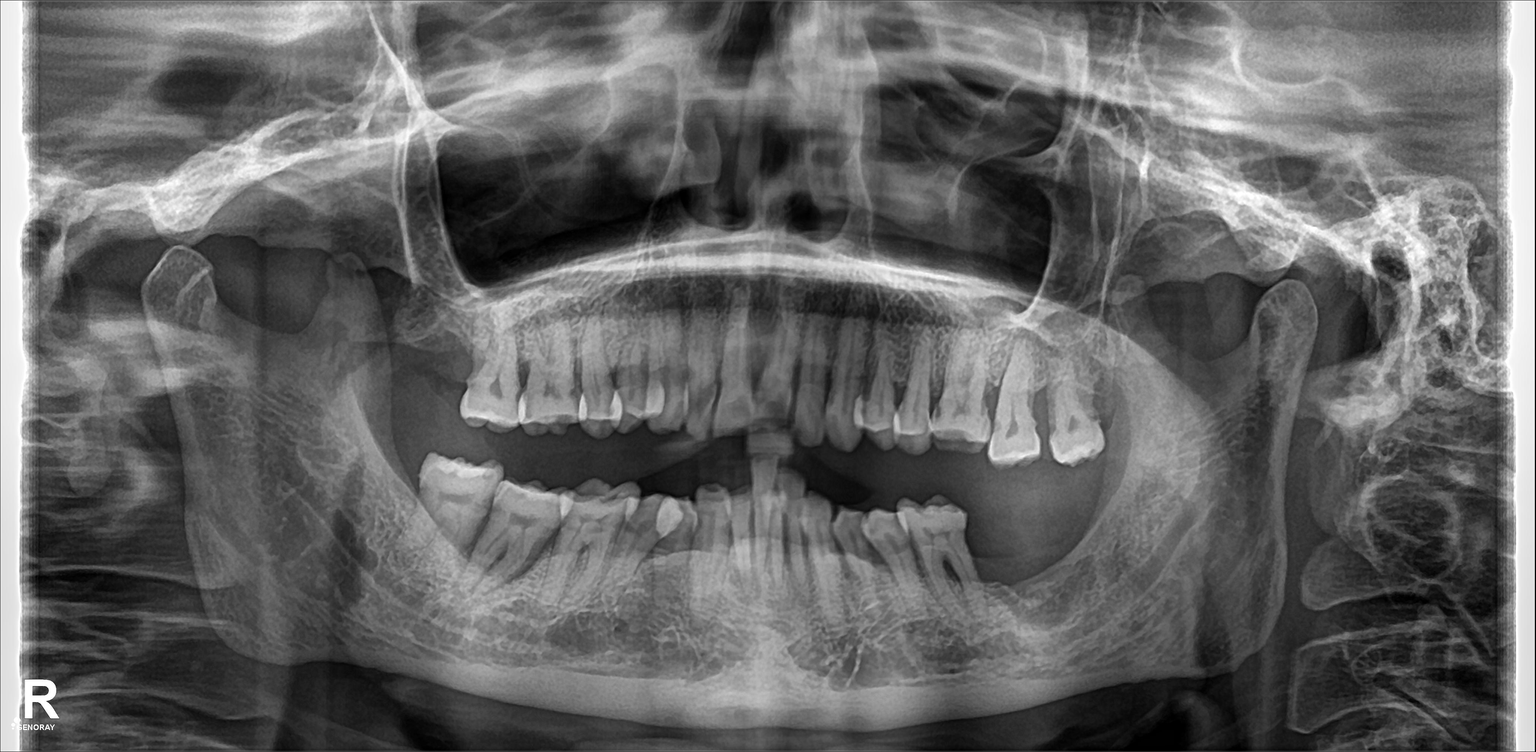Dental Caries: (760, 404, 797, 438)
Missing Tooth: (1076, 488, 1116, 606), (1021, 495, 1062, 606), (376, 443, 425, 532), (972, 503, 1012, 599), (384, 324, 425, 405), (432, 322, 465, 401)
